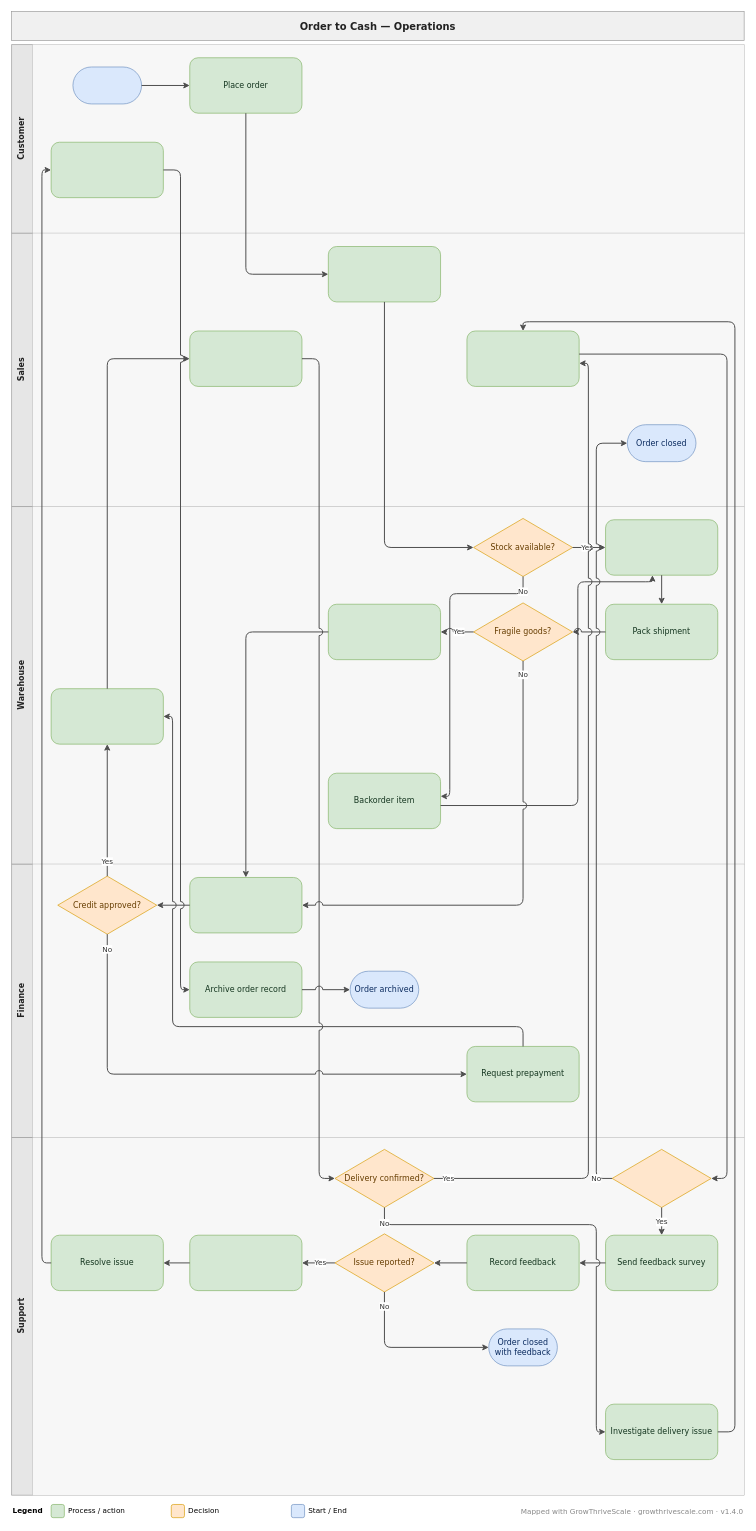
This 756x1531 diagram has some shape labels left out. Each missing label, with the centre of its shape:
"Acknowledge order" goes at [384,274].
"Add protective packaging" goes at [384,632].
"Close order" goes at [522,358].
"Confirm resolution" goes at [106,170].
"Create support ticket" goes at [245,1263].
"Dispatch shipment" goes at [106,716].
"Feedback requested?" goes at [661,1178].
"Generate invoice" goes at [245,905].
"Pick items" goes at [661,547].
"Send tracking details" goes at [245,358].
"Start" goes at [107,85].
